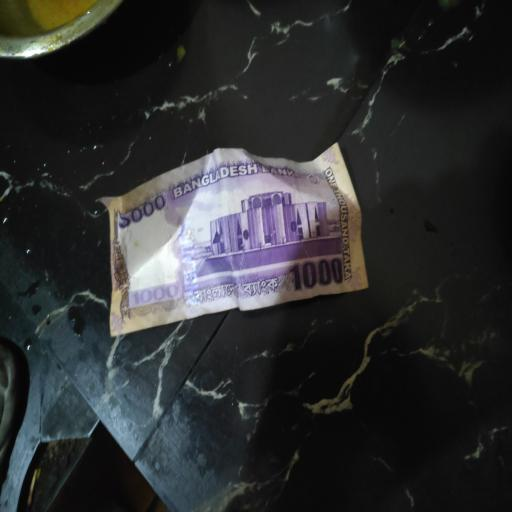1000taka: (98, 142, 373, 341)
